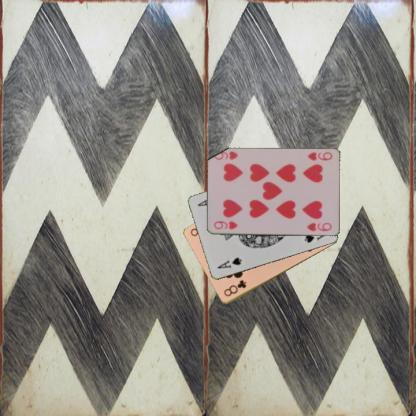8c: (222, 277, 248, 298)
9h: (304, 150, 333, 162), (211, 219, 238, 230)
As: (216, 255, 243, 270)
